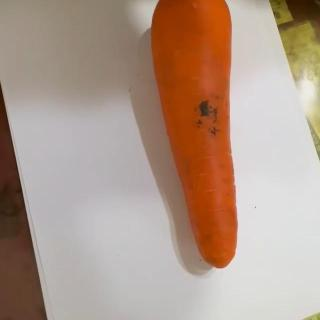carrot: (150, 0, 238, 270)
